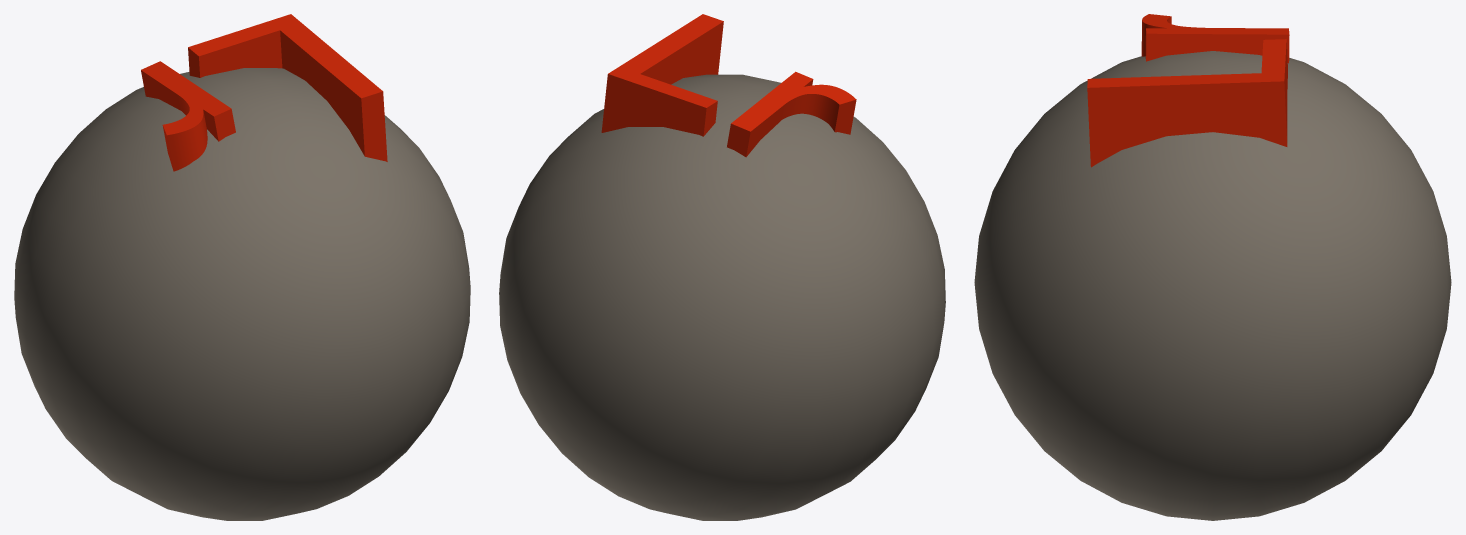
3 views of the same model, side by side, from view 1: azimuth 30°, elevation 25°; view 2: azimuth 150°, elevation 25°; view 3: azimuth 270°, elevation 25° (orthographic). The views are drawn at different scales.
Parts seen in each view (by area): view 1: U001, Object013, Object014; view 2: U001, Object013, Object014; view 3: U001, Object013, Object014.
Boxes of the visible parts, box(x1,y1,x2,y2) form: U001: box(14, 68, 470, 520); Object013: box(188, 14, 387, 161); Object014: box(141, 61, 235, 171); U001: box(499, 74, 945, 520); Object013: box(601, 14, 723, 136); Object014: box(727, 71, 856, 157); U001: box(974, 51, 1451, 520); Object013: box(1087, 39, 1287, 167); Object014: box(1141, 14, 1289, 63).
Bounding box in the file's own units: 38.67 × 41.14 × 38.75.
